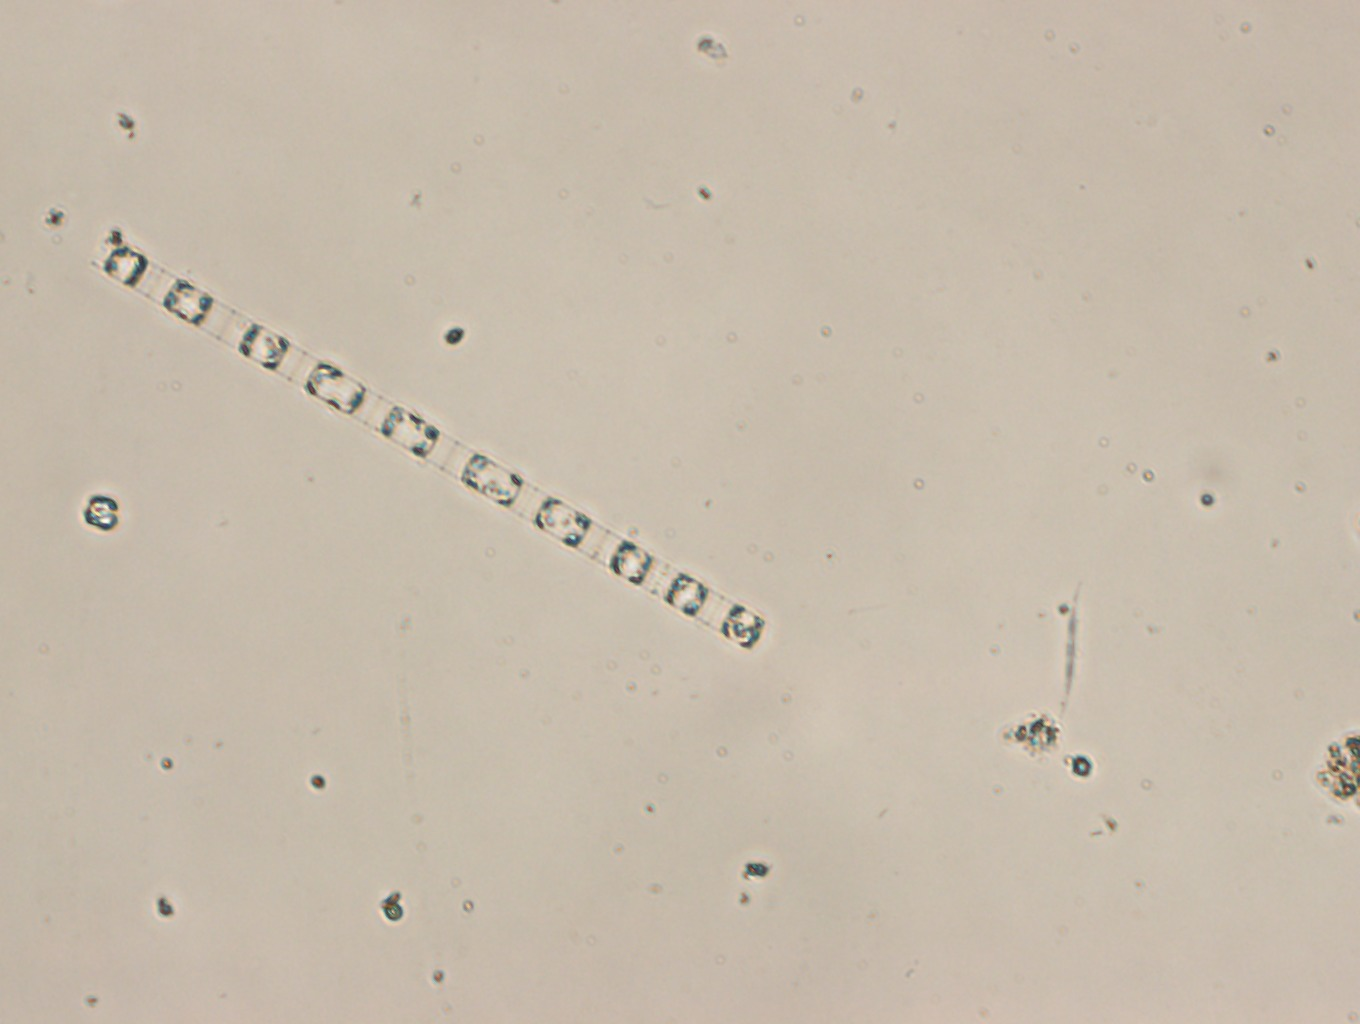skeletonema: (81, 231, 772, 668)
